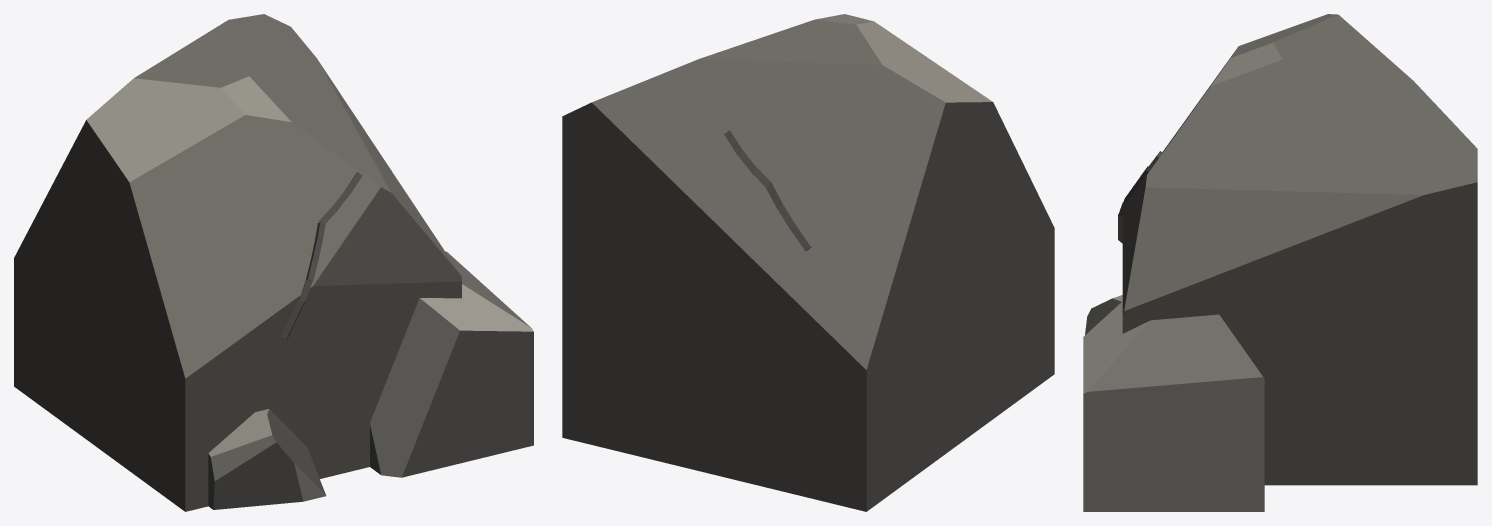
Rendered from rubble_a.fbx.
3 renders of one model, left to right at view 1: azimuth 30°, elevation 25°; view 2: azimuth 150°, elevation 25°; view 3: azimuth 270°, elevation 25°, orthographic. The views are drawn at different scales.
Parts seen in each view (by area): view 1: rubble_a; view 2: rubble_a; view 3: rubble_a.
Boxes of the visible parts, x1,y1,x2,y2 form: rubble_a: [14, 14, 533, 511]; rubble_a: [562, 14, 1054, 511]; rubble_a: [1083, 14, 1477, 511].
Bounding box in the file's own units: 1 × 1 × 1.
